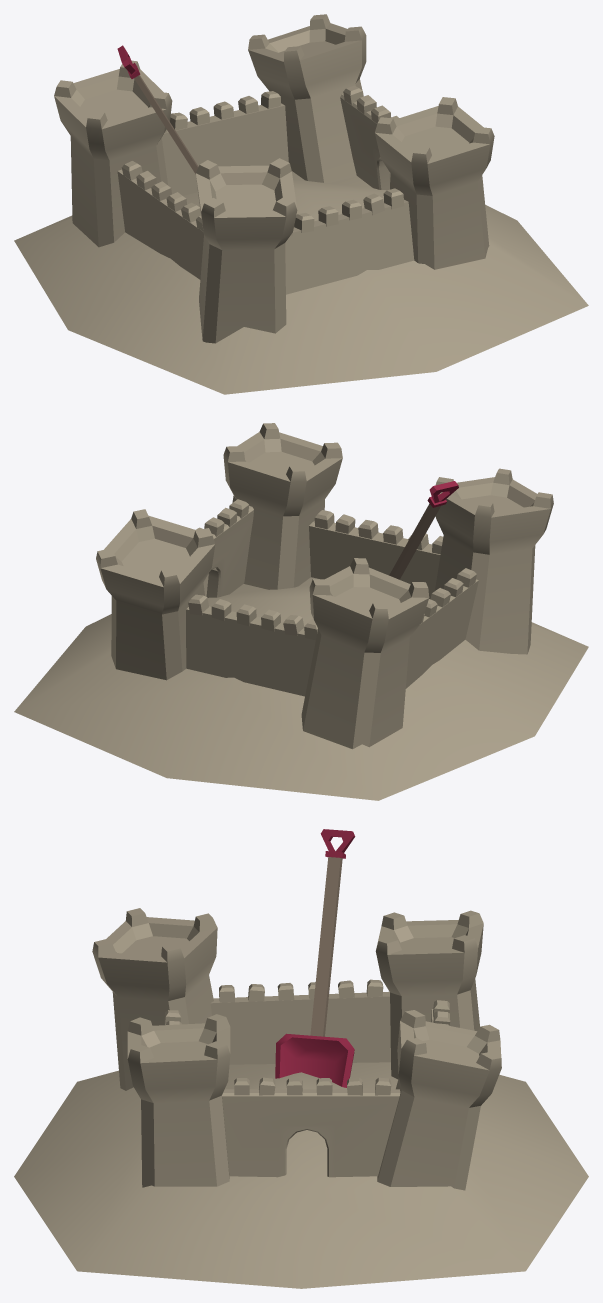
File: 51bebfbf-360c-403b-8ad2-3bd75c7fa7df.glb
The picture shows the model from 3 angles, top to bottom: view 1: azimuth 30°, elevation 25°; view 2: azimuth 150°, elevation 25°; view 3: azimuth 270°, elevation 25°; orthographic projection. The views are drawn at different scales.
Visible parts, largest first — view 1: SM_SandCastle:SM_SandCastle1; view 2: SM_SandCastle:SM_SandCastle1; view 3: SM_SandCastle:SM_SandCastle1.
Part boxes in pixels (x1,y1,x2,y2): SM_SandCastle:SM_SandCastle1: (14,14,588,394); SM_SandCastle:SM_SandCastle1: (14,423,588,800); SM_SandCastle:SM_SandCastle1: (14,829,588,1288).
Size of the model in its own units: 2.29 by 1.25 by 2.39.
